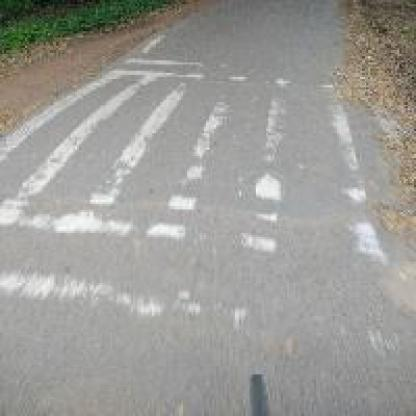Speed Bump: (2, 50, 414, 370)
